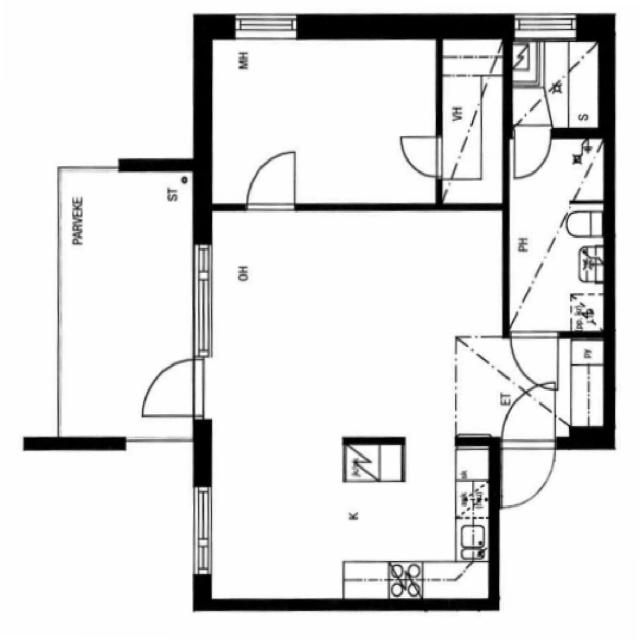door: (497, 385, 558, 505), (133, 351, 203, 421), (238, 143, 305, 213), (393, 126, 447, 184), (508, 119, 556, 180), (519, 380, 563, 417)
window: (185, 235, 220, 365), (188, 476, 219, 585), (222, 7, 308, 44), (507, 6, 581, 39), (64, 154, 128, 182)
zone: (224, 436, 488, 601), (55, 160, 202, 439), (208, 32, 440, 208), (502, 132, 612, 334), (439, 29, 505, 202), (507, 34, 604, 132)
